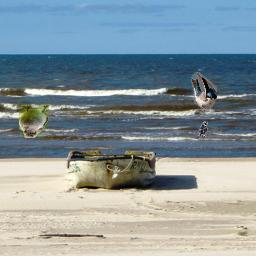Sparrow: (19, 104, 49, 138), (196, 121, 208, 139)
Swallow: (191, 72, 217, 112)
